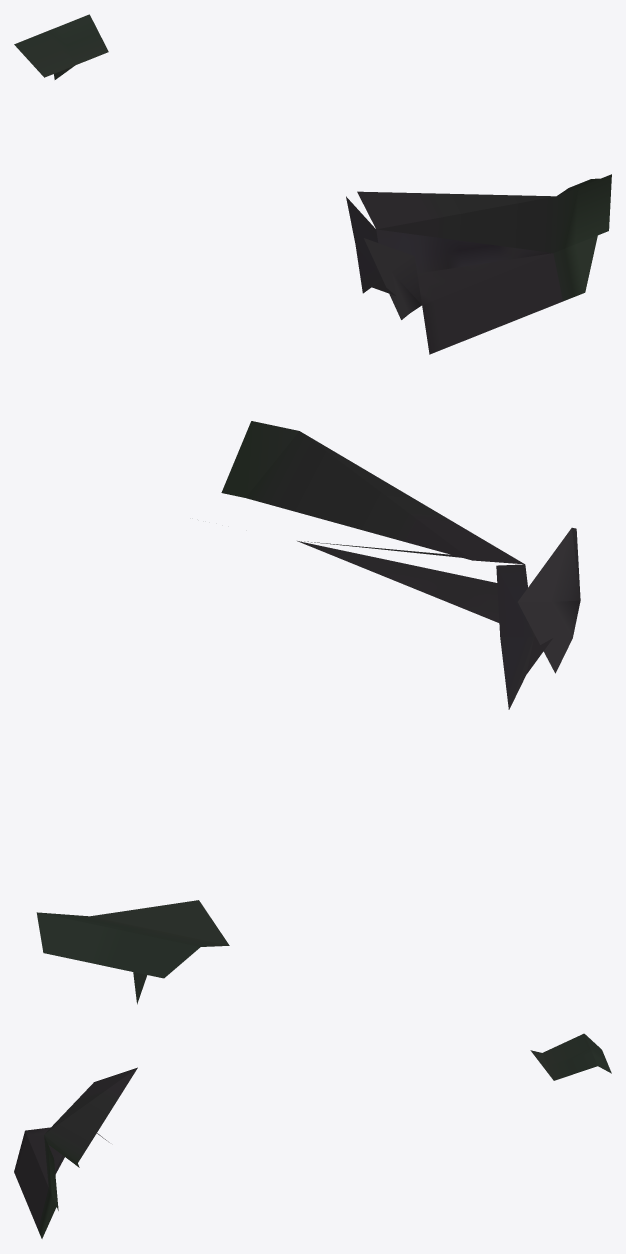
The picture shows the model from 3 angles, top to bottom: view 1: azimuth 30°, elevation 25°; view 2: azimuth 150°, elevation 25°; view 3: azimuth 270°, elevation 25°; orthographic projection. The views are drawn at different scales.
Visible parts, largest first — view 1: Mesh_0; view 2: Mesh_0; view 3: Mesh_0.
Part boxes in pixels (x1=…): Mesh_0: x1=14, y1=14, x2=611, y2=354; Mesh_0: x1=36, y1=421, x2=580, y2=1004; Mesh_0: x1=14, y1=1033, x2=611, y2=1238.
Bounding box in the file's own units: 3.84 × 1.52 × 7.21.
1 material, 1 textured.
